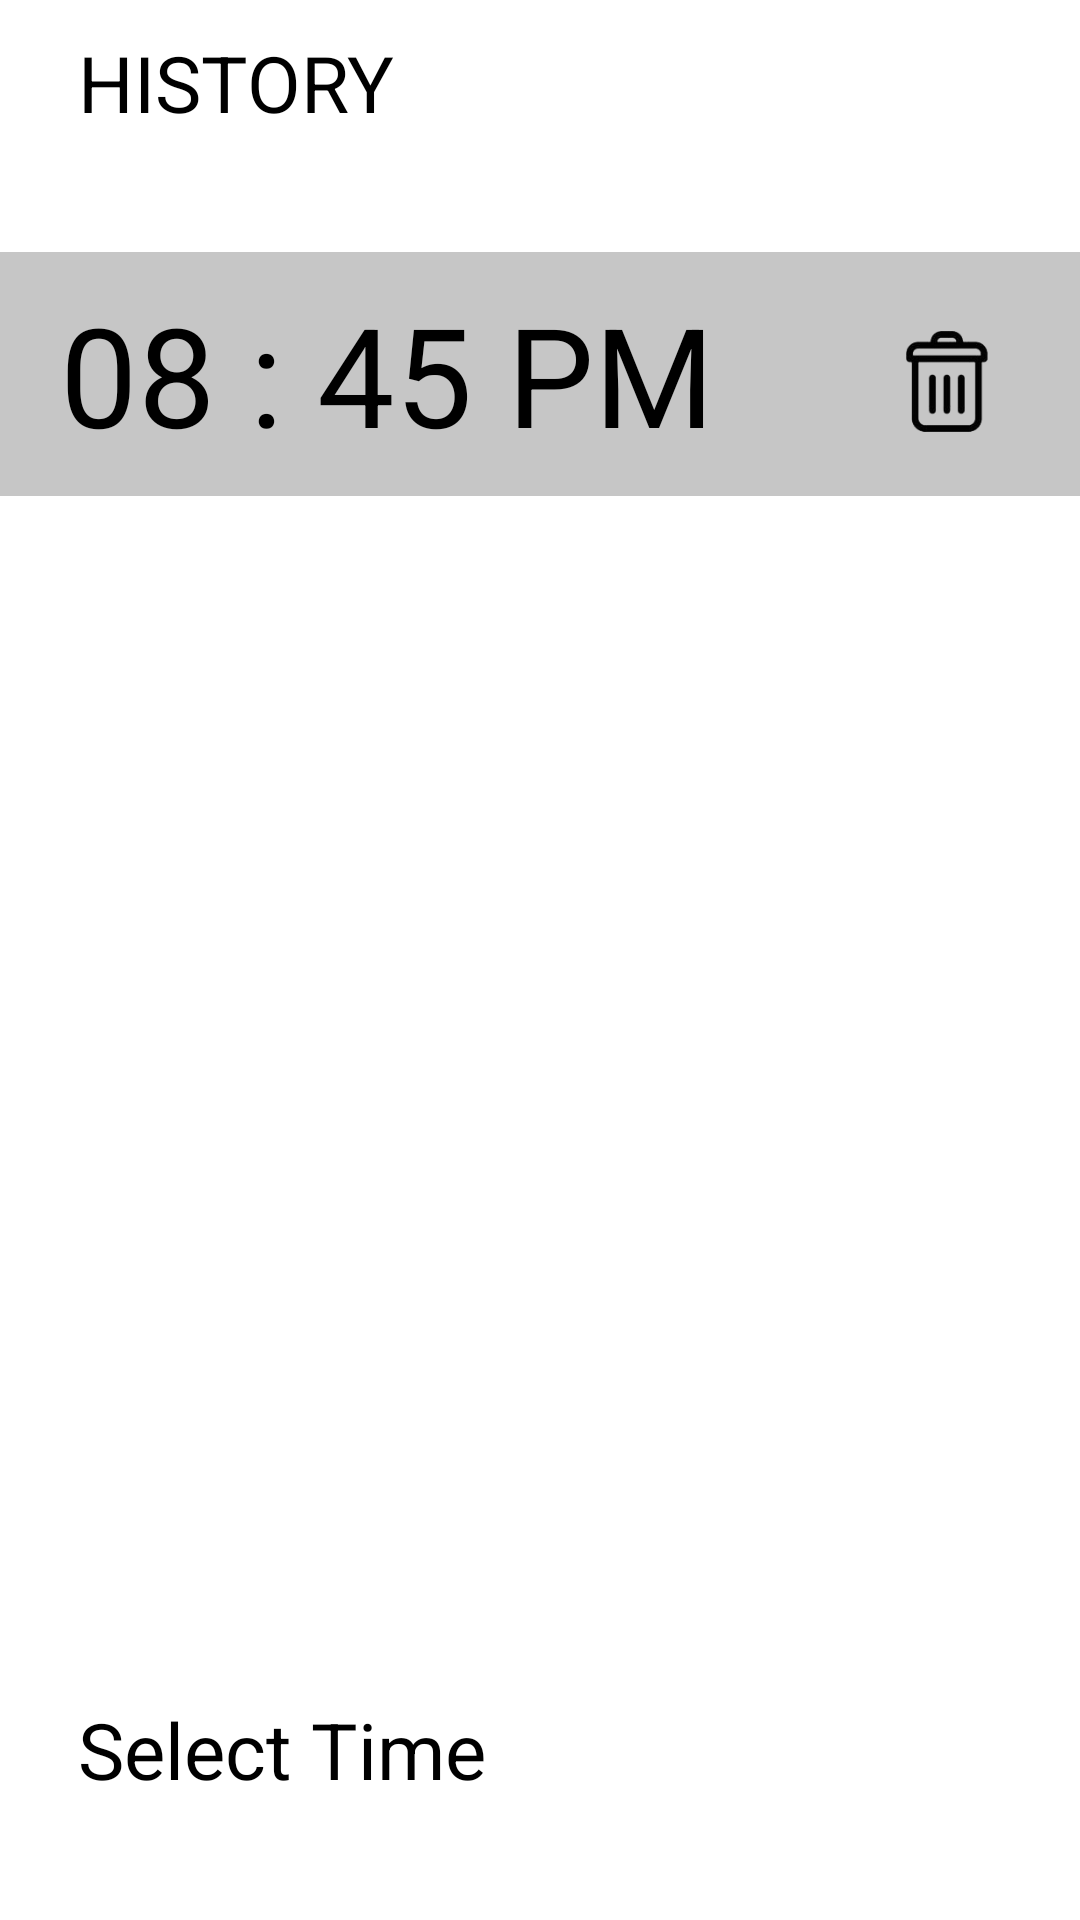

Icons on this 1080×1920 Android screen, each with the point to tap as [x,y]:
bin: [947,381]
